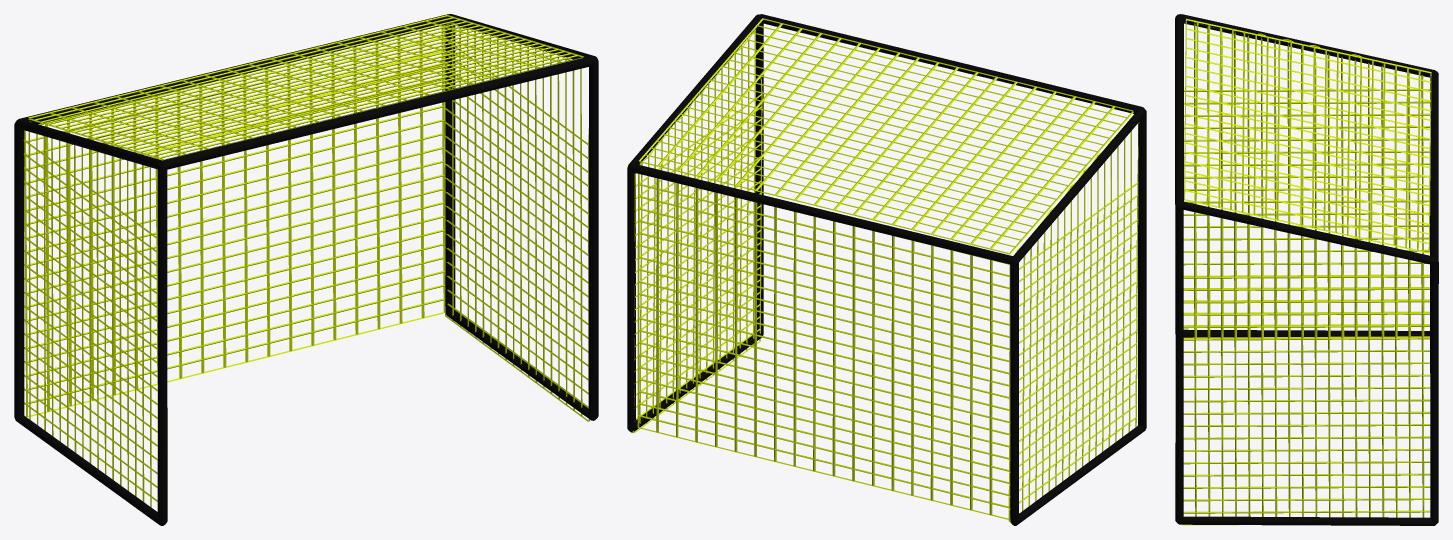
The model's file is goalPost.fbx.
3 views of the same model, side by side, from view 1: azimuth 30°, elevation 25°; view 2: azimuth 150°, elevation 25°; view 3: azimuth 270°, elevation 25° (orthographic). The views are drawn at different scales.
Parts seen in each view (by area): view 1: Plane.001, Circle, Plane, Plane.003, Plane.002; view 2: Plane.001, Plane, Circle, Plane.002, Plane.003; view 3: Plane.003, Plane, Plane.002, Circle.
Part boxes in pixels (x1,y1,x2,y2): Plane.001: (24, 28, 445, 417); Circle: (14, 14, 598, 525); Plane: (28, 15, 584, 160); Plane.003: (444, 22, 589, 421); Plane.002: (23, 121, 157, 507); Plane.001: (637, 173, 1010, 519); Plane: (639, 18, 1133, 254); Circle: (627, 14, 1146, 525); Plane.002: (1008, 118, 1139, 521); Plane.003: (632, 28, 762, 433); Plane.003: (1183, 212, 1430, 525); Plane: (1184, 18, 1431, 253); Plane.002: (1183, 22, 1429, 338); Circle: (1175, 14, 1438, 525).
Bounding box in the file's own units: 408 × 325 × 239.
